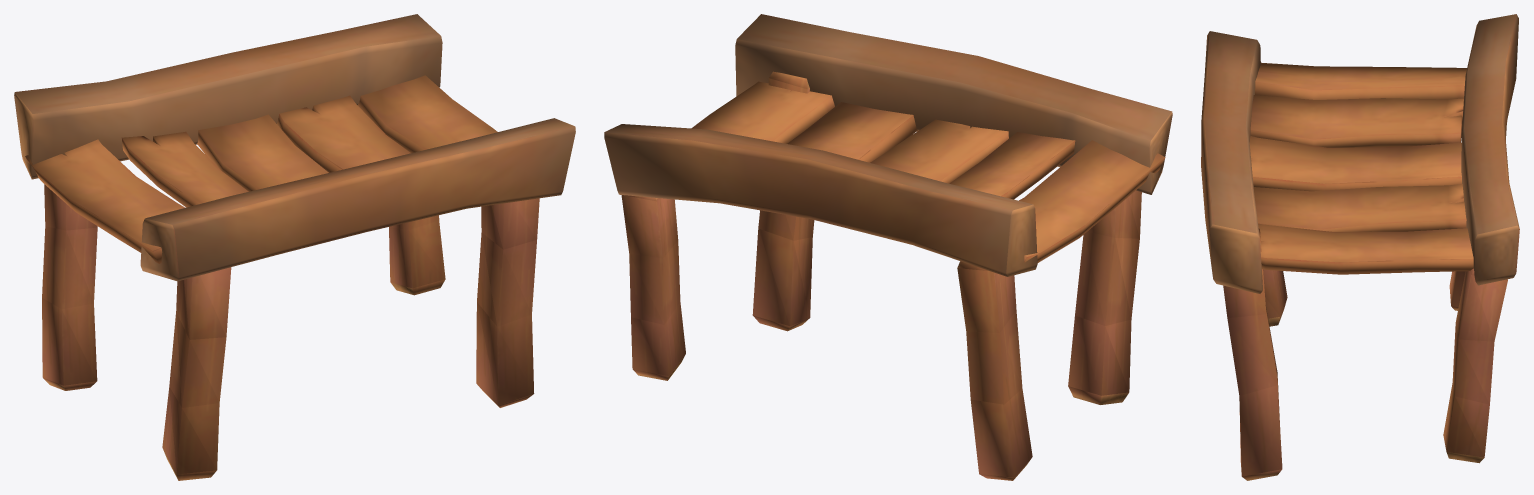
Rendered from pier.fbx.
3 renders of one model, left to right at view 1: azimuth 30°, elevation 25°; view 2: azimuth 150°, elevation 25°; view 3: azimuth 270°, elevation 25°, orthographic. The views are drawn at different scales.
Parts seen in each view (by area): view 1: Object_86.001; view 2: Object_86.001; view 3: Object_86.001.
Boxes of the visible parts, x1=… form: Object_86.001: x1=14, y1=14, x2=575, y2=480; Object_86.001: x1=604, y1=14, x2=1172, y2=480; Object_86.001: x1=1201, y1=14, x2=1519, y2=480.
Bounding box in the file's own units: 239 × 165 × 163.
